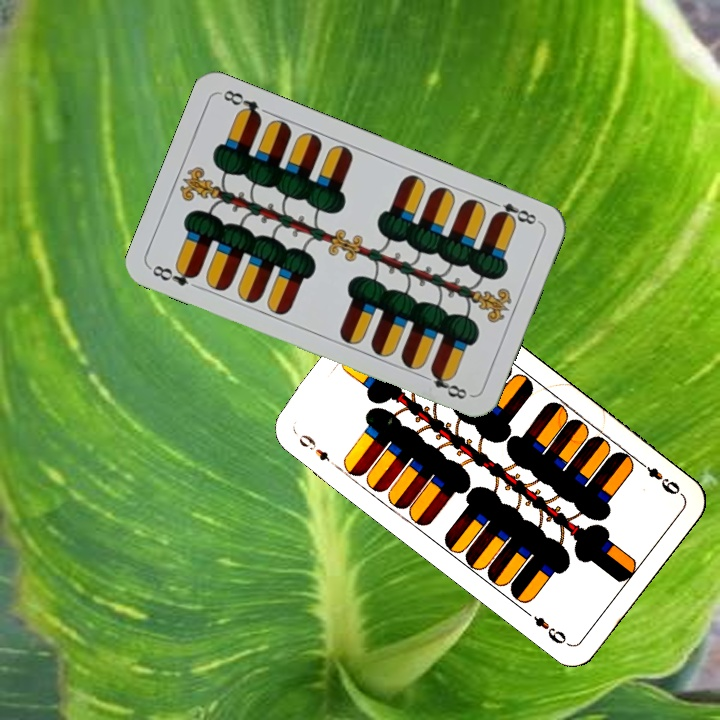E8: (486, 196, 543, 228), (148, 261, 201, 289)
E9: (635, 457, 685, 498), (294, 430, 340, 471)
